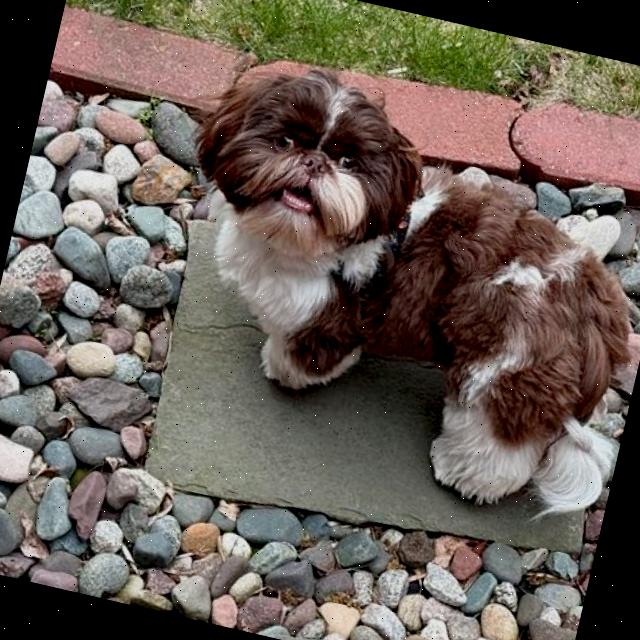shih_tzu_dog: (172, 35, 454, 288)
